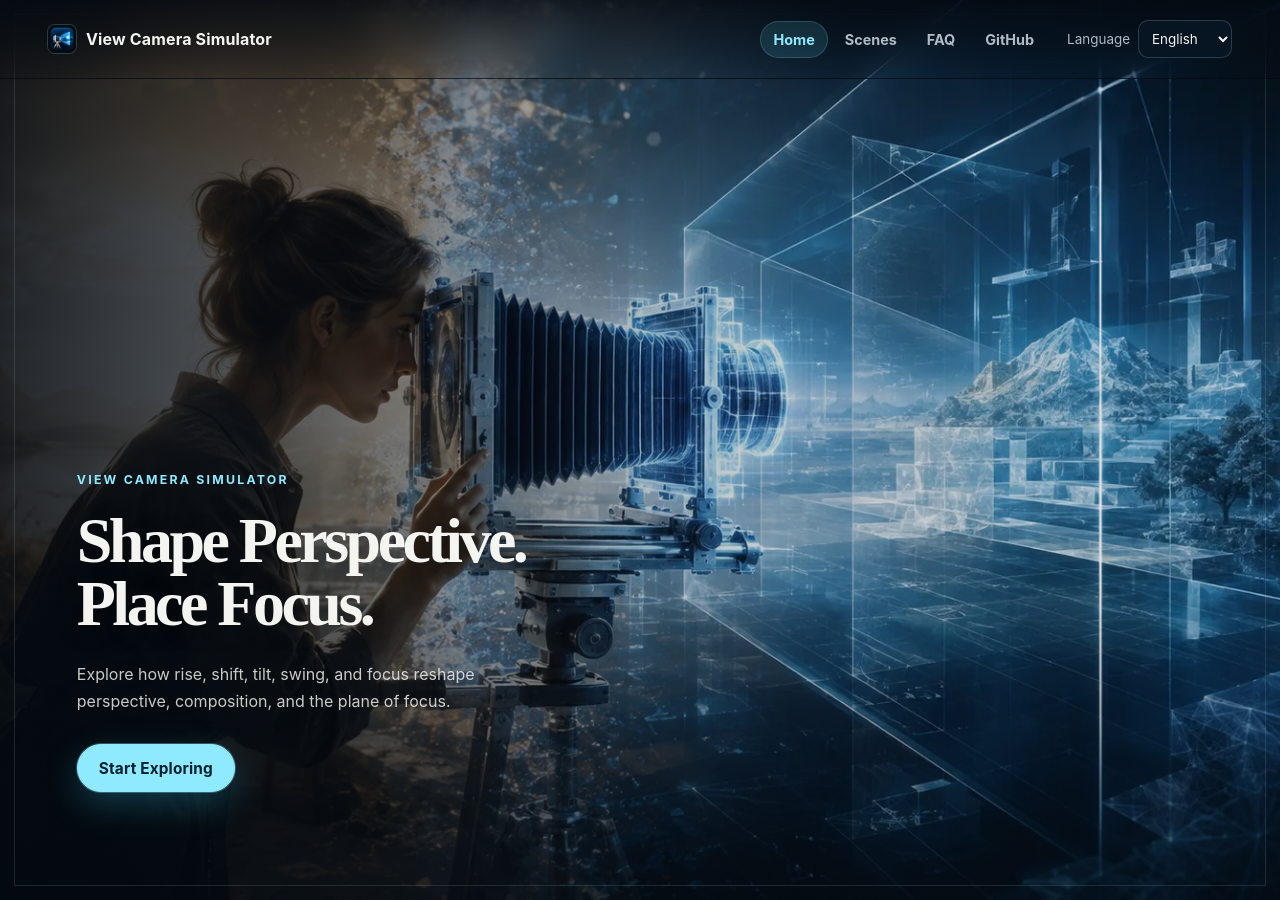
Test: internationalization foundation › switches visible public copy immediately and persists without navigation
Select "繁體中文" in the dropdown labelled "Language" at {"x": 1185, "y": 39}, box top-left (1138, 20), bottom-right (1232, 58)
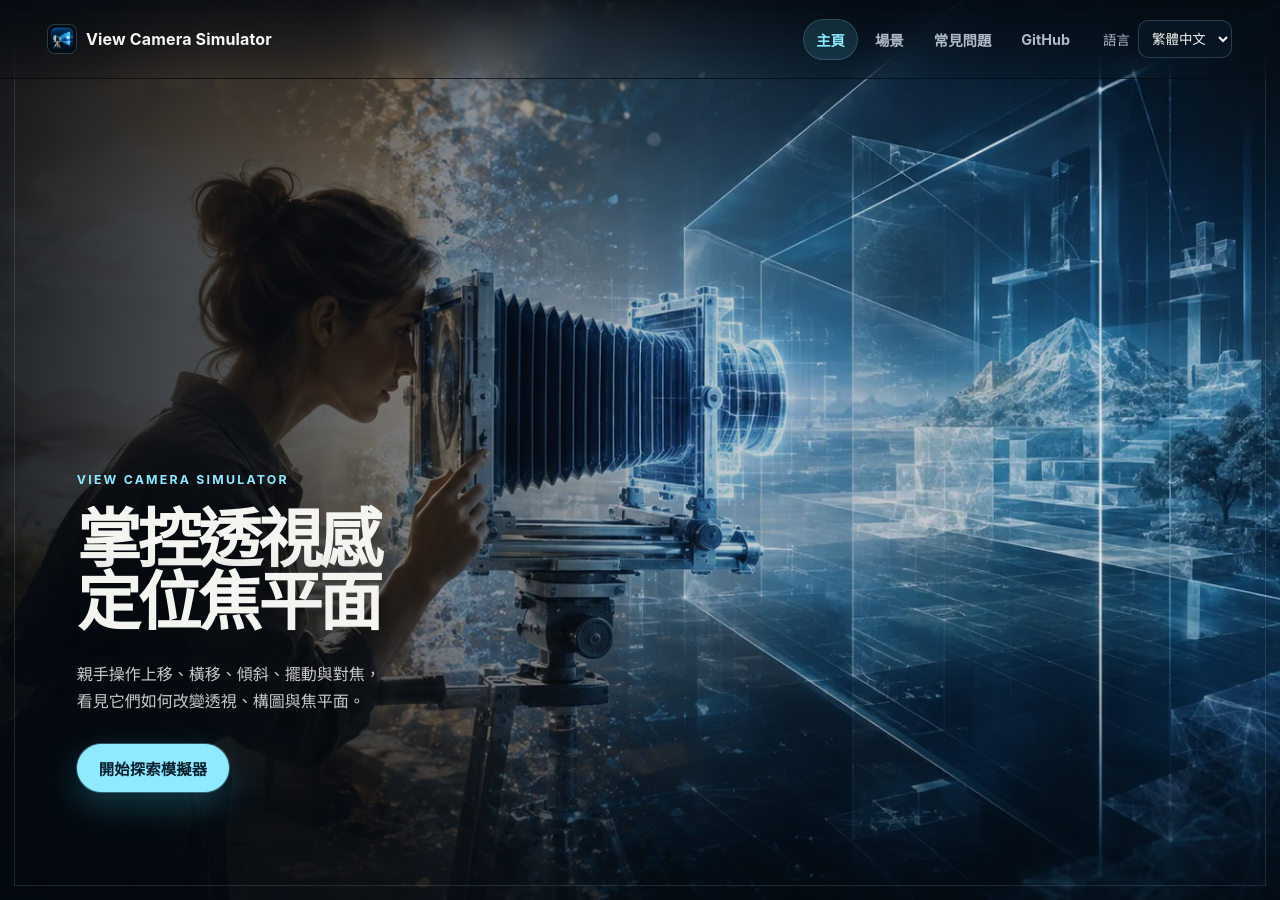
Expected: the heading "掌控透視感 定位焦平面" is shown, top-left (77, 510), bottom-right (379, 635)
Expected: the link "場景" is shown, top-left (875, 32), bottom-right (904, 48)
Expected: the text "親手操作上移、橫移、傾斜、擺動與對焦，看見它們如何改變透視、構圖與焦平面。" is shown, top-left (77, 664), bottom-right (381, 711)
Select "English" in the dropdown named "Language" at {"x": 1185, "y": 39}, box top-left (1138, 20), bottom-right (1232, 58)
(page scrolled)
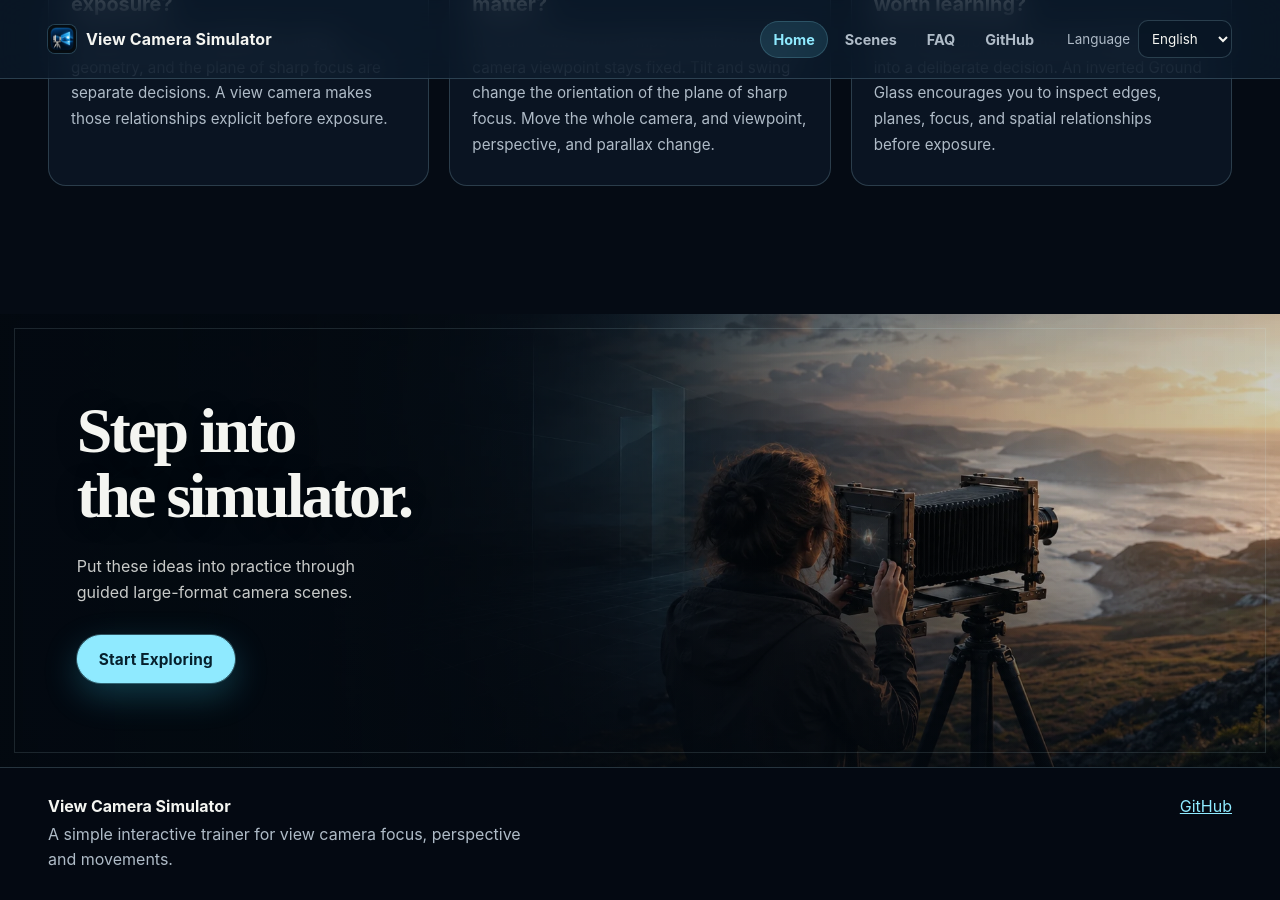
Expected: the element with test id "landing-final-cta-section" shows "Step into the simulator.", top-left (77, 395), bottom-right (411, 531)
Expected: the element with test id "landing-final-cta-section" shows "Start Exploring", top-left (77, 635), bottom-right (235, 683)
